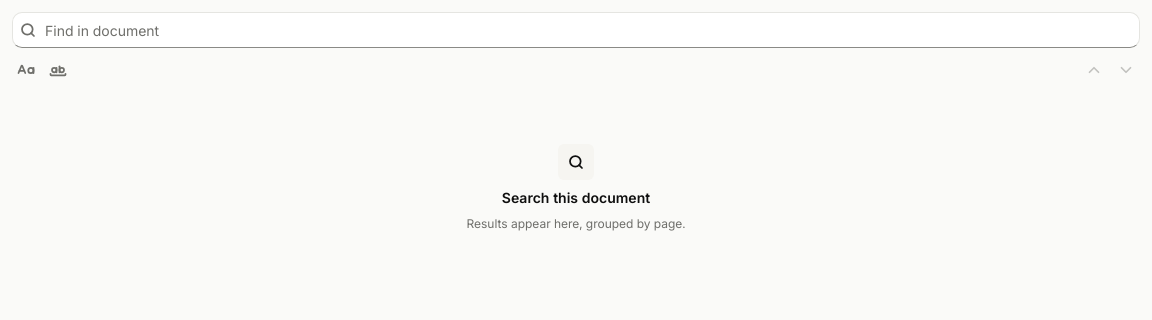
Scenario: the search panel › searches on Enter and lists the hits under their page, the match in bold, as text
Type "quick" into the search field named "Search" at (576, 30), box left=12, top=12, right=1140, bottom=48
Then press Enter
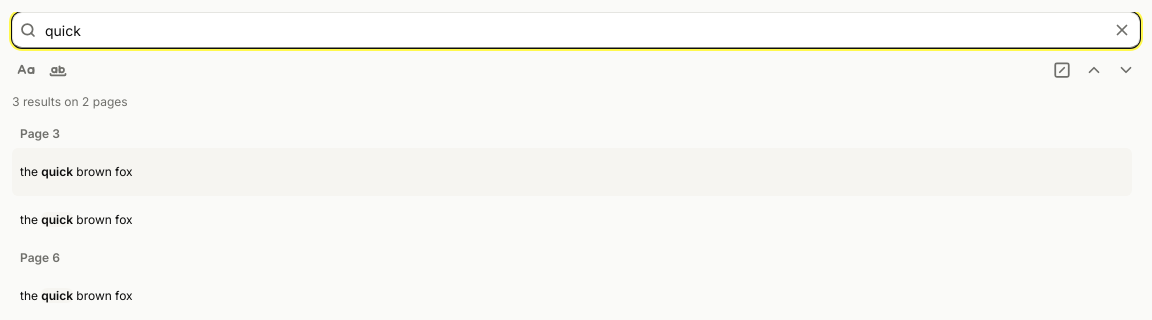
Now the number of options is 3, box left=12, top=148, right=1132, bottom=196; left=20, top=212, right=133, bottom=227; left=20, top=288, right=133, bottom=303
Now the text "Page 3" is shown, box left=20, top=126, right=60, bottom=141
Now the text "Page 6" is shown, box left=20, top=250, right=60, bottom=265
